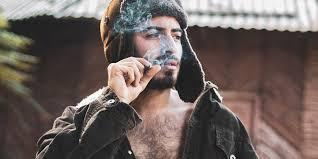smoker: (105, 2, 232, 120)
